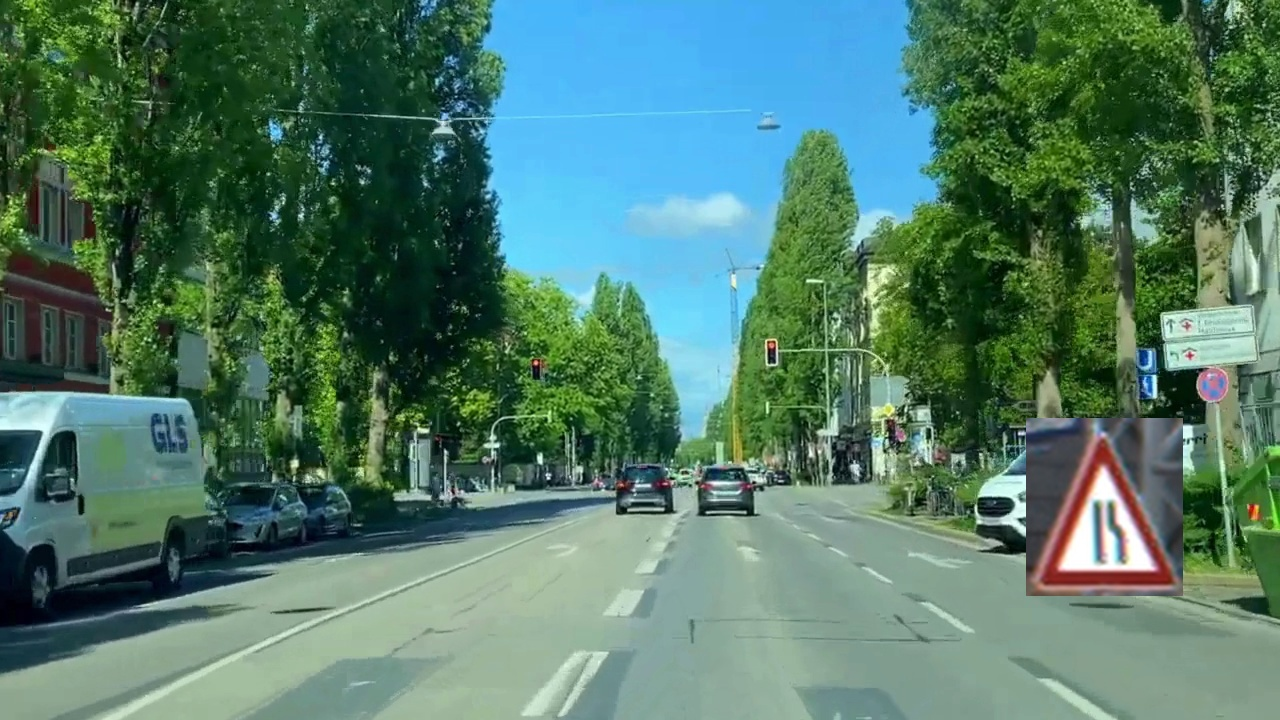Road narrows: (1026, 418, 1183, 596)
